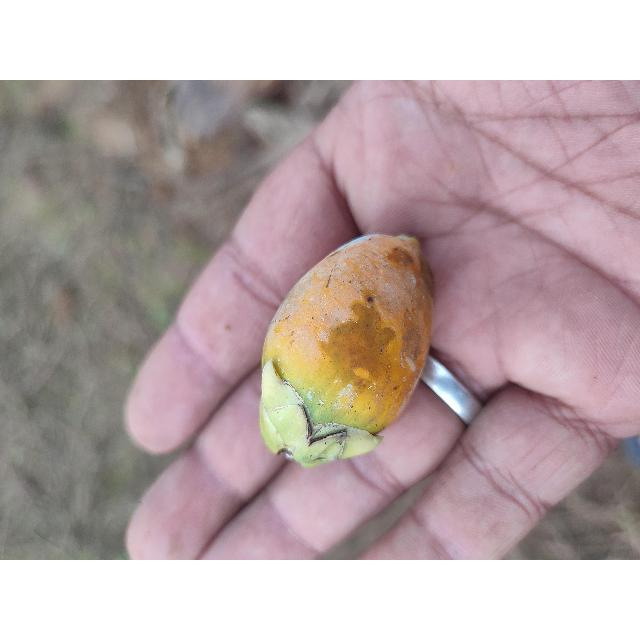good: (258, 234, 435, 470)
